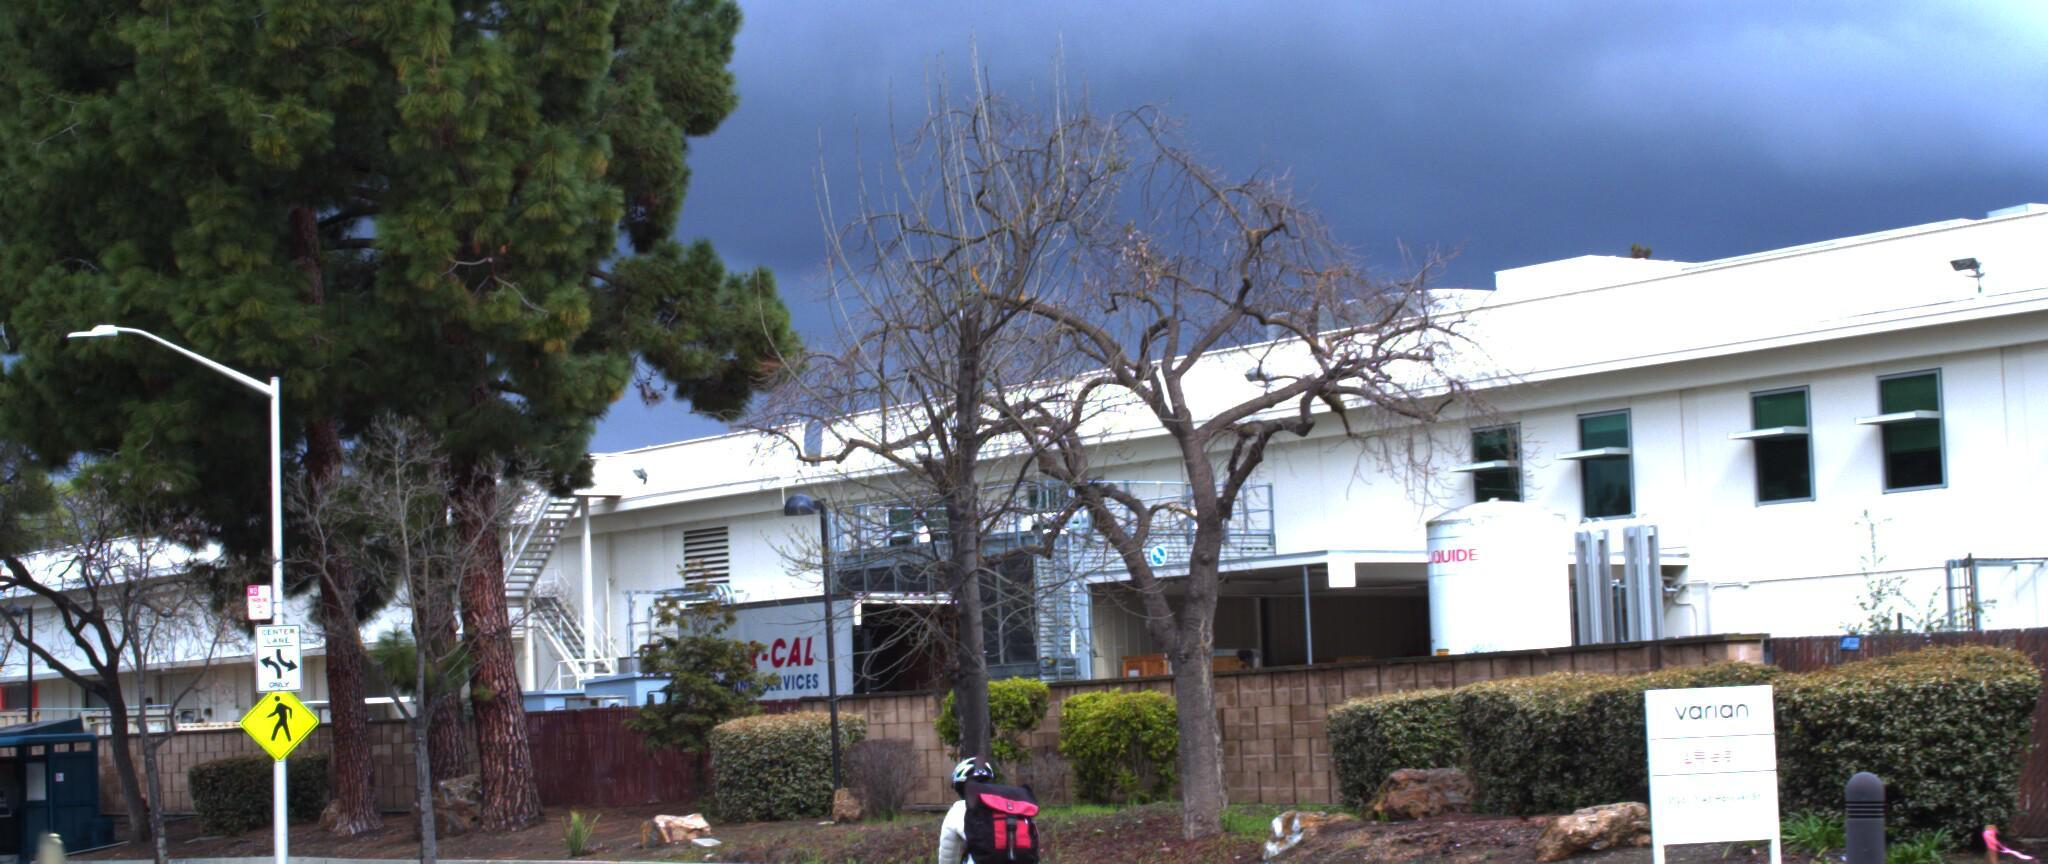bicycle: (872, 744, 1095, 864)
truck: (632, 581, 1017, 797), (65, 673, 204, 814)
